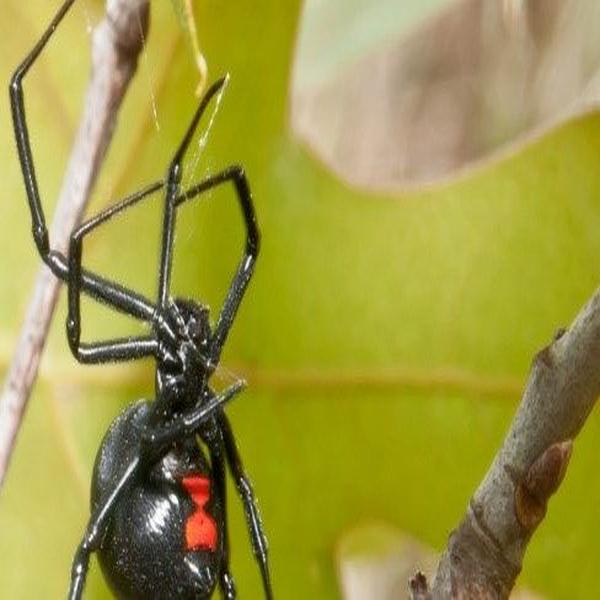Redback Spider: (7, 1, 274, 600)
